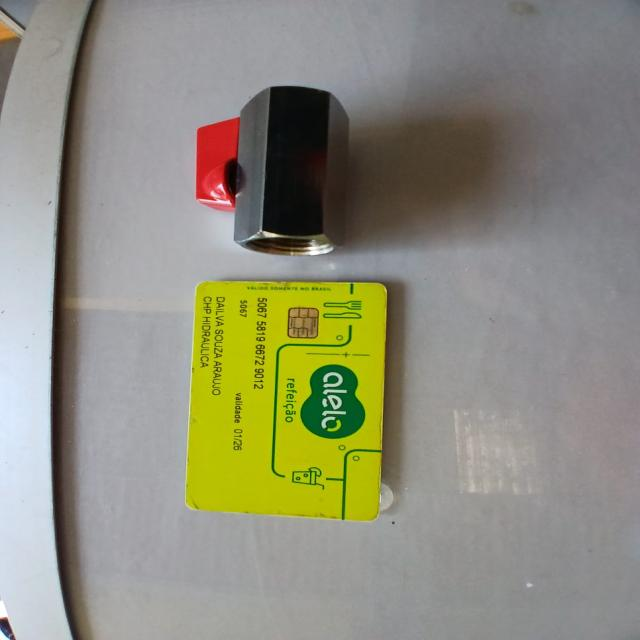cartao: (183, 278, 391, 528)
rosca_interna: (176, 84, 377, 261)
